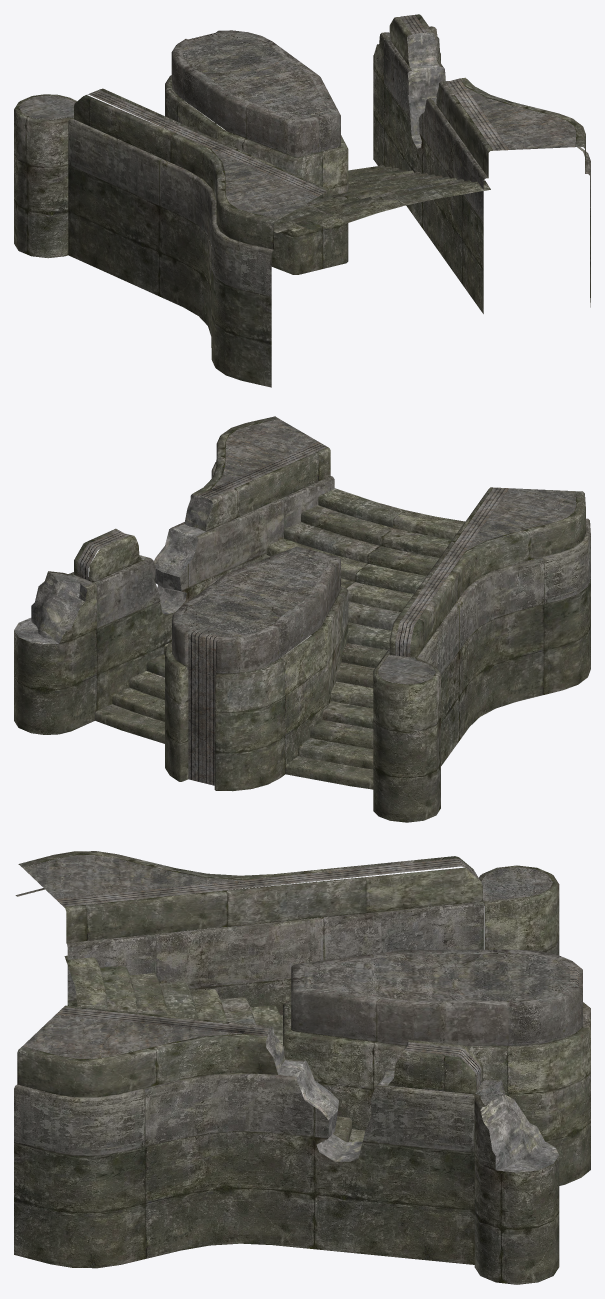
The model's file is eso_gu14_StoneRuins1-transformed.glb.
3 views of the same model, one above another, from view 1: azimuth 30°, elevation 25°; view 2: azimuth 150°, elevation 25°; view 3: azimuth 270°, elevation 25° (orthographic). The views are drawn at different scales.
Parts seen in each view (by area): view 1: default; view 2: default; view 3: default.
Part boxes in pixels (bbox=[...]): default: bbox=[14, 14, 590, 387]; default: bbox=[14, 416, 590, 822]; default: bbox=[14, 851, 590, 1284].
Size of the model in its own units: 21.54 by 8.03 by 20.82.
5 materials, 5 textured.
